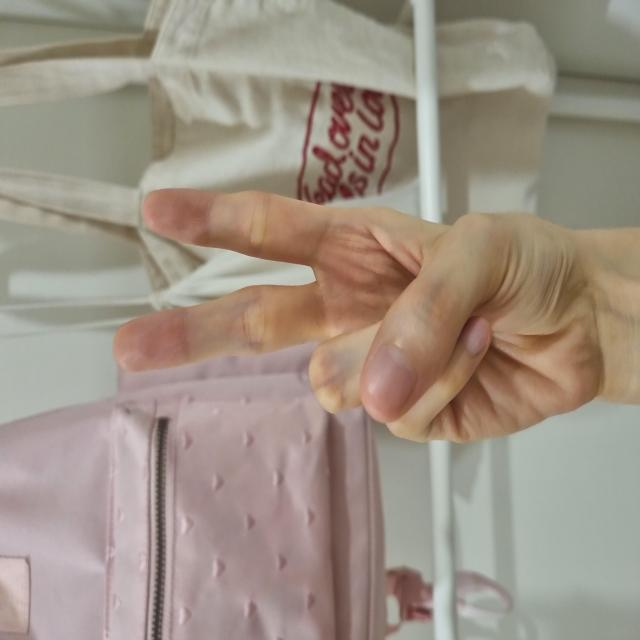V: (196, 113, 454, 603)
